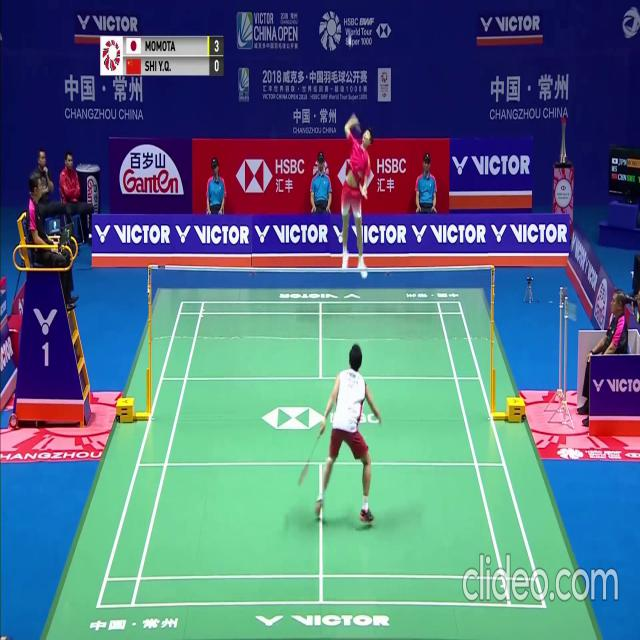Shuttlecock: (347, 39, 352, 46)
